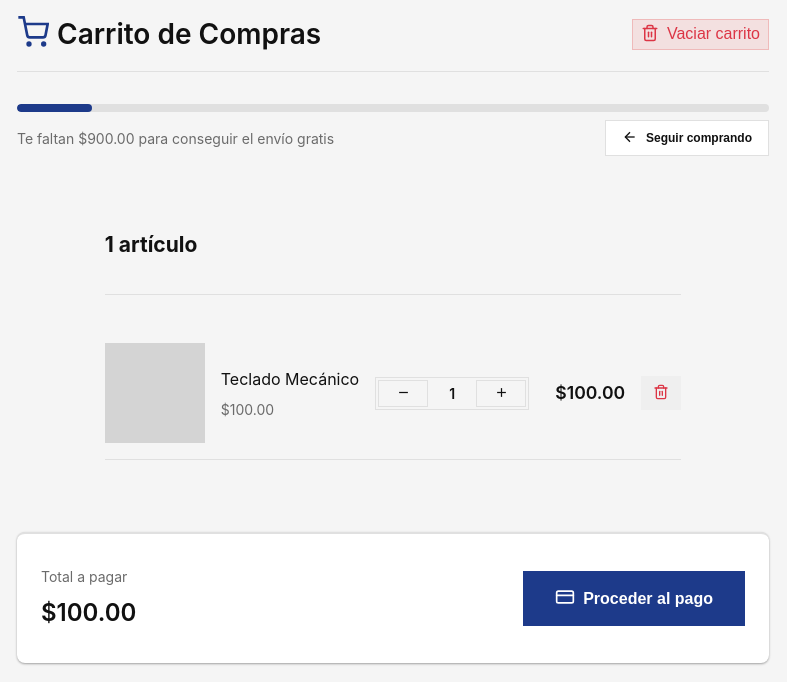
Cart (página) › incrementar la cantidad actualiza el subtotal
The image size is (787, 682).
What coordinates should you click on to do the following:
click the button with test id "cart-item-increase-prod-1"
I would click on:
 (501, 393)
Its box is [476, 380, 526, 407].
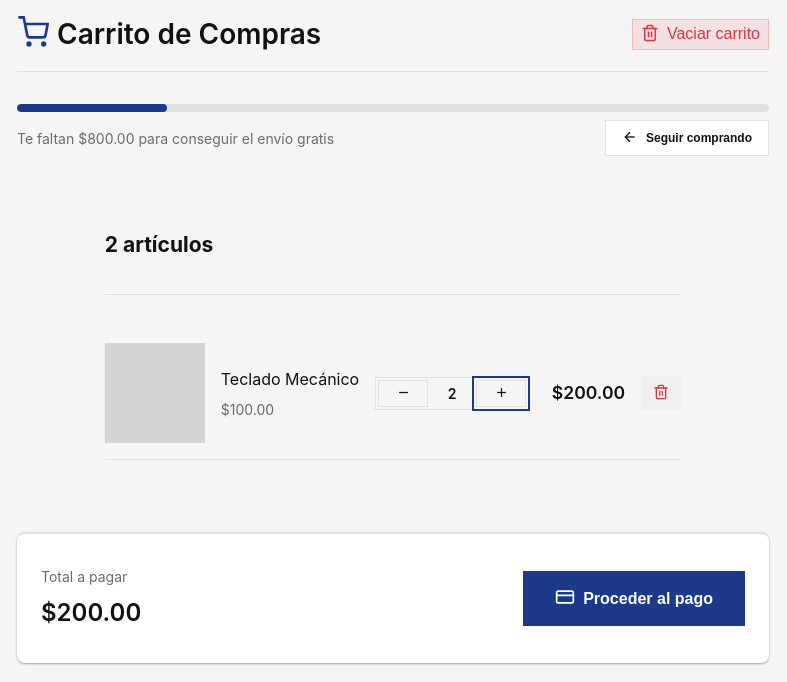
Expected: the text with test id "cart-item-quantity-prod-1" reads "2", [448, 385, 456, 402]
Expected: the heading with test id "cart-subtotal" reads "$200.00", [41, 595, 141, 631]
